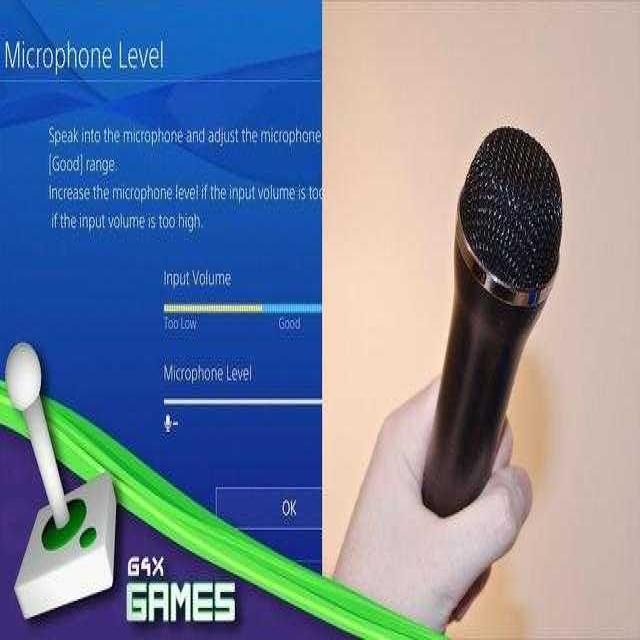microphone: (424, 123, 568, 513)
